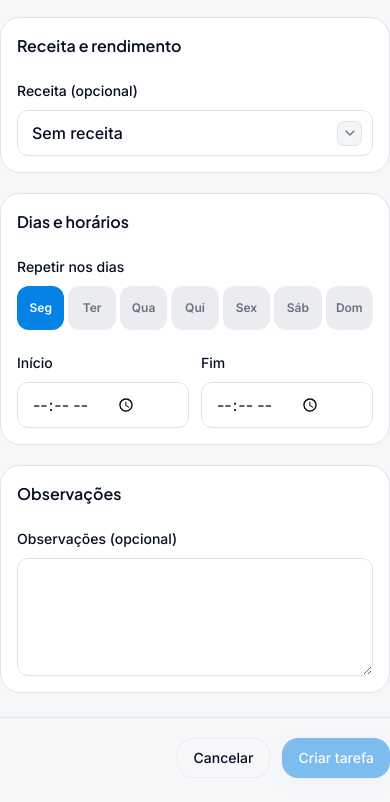
Test: Daily recurring schedule › prefills the selected day for new tasks but keeps all recurrence days when editing
Earlier steps of the test are not shown.
(page scrolled)
Click the button "Cancelar" at (223,758), box top-left (176, 738), bottom-right (270, 778)
(page scrolled)
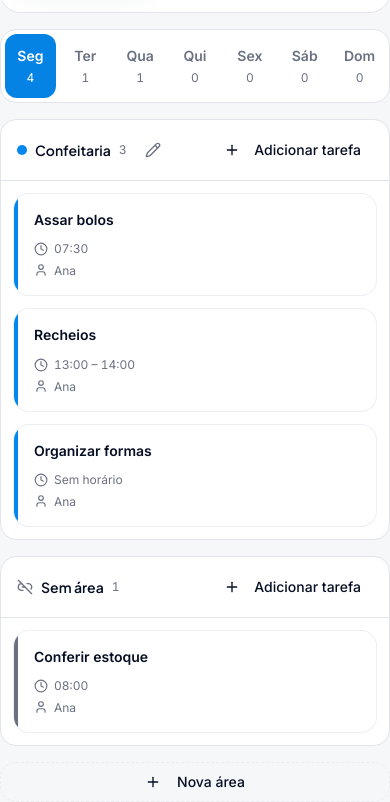
Result: the element named "Cronograma de Segunda" is shown
Click the button with aria-label "Ver Terça" at (85,66), box top-left (60, 34), bottom-right (111, 98)
(page scrolled)
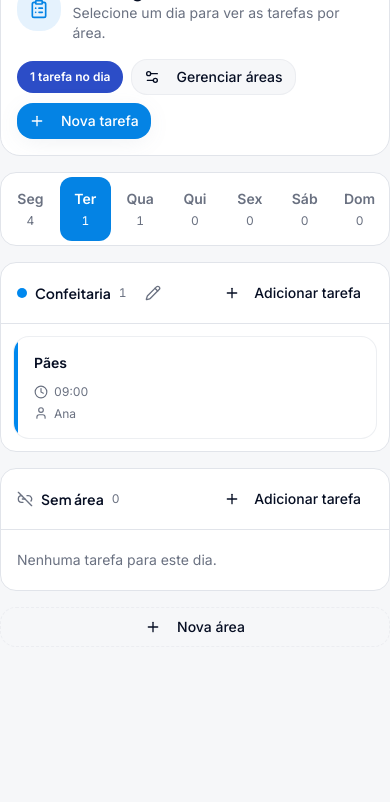
Click the button with aria-label "Adicionar tarefa em Confeitaria" at (293,293), box top-left (212, 275), bottom-right (373, 311)
(page scrolled)
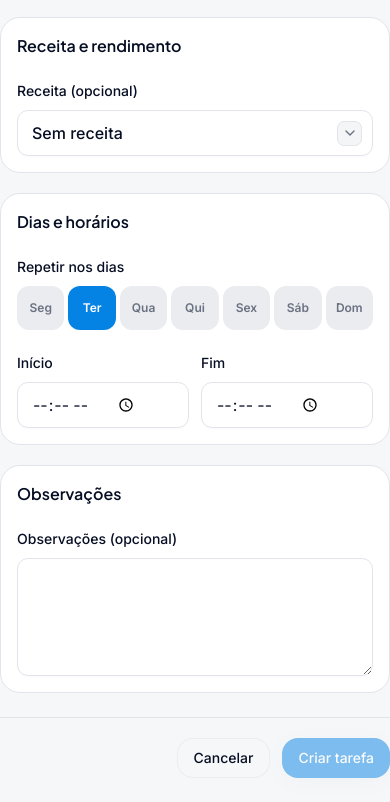
Result: the button titled "Terça" is pressed at top-left (68, 286), bottom-right (116, 330)
Click the button "Cancelar" at (223,758), box top-left (176, 738), bottom-right (270, 778)
(page scrolled)
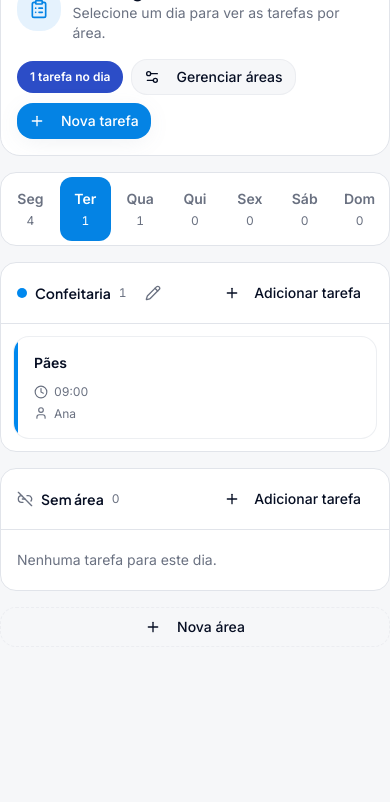
Result: the element named "Cronograma de Terça" is shown at top-left (0, 262), bottom-right (389, 647)
Click the button with aria-label "Ver Quarta" at (140,209), box top-left (115, 177), bottom-right (166, 241)
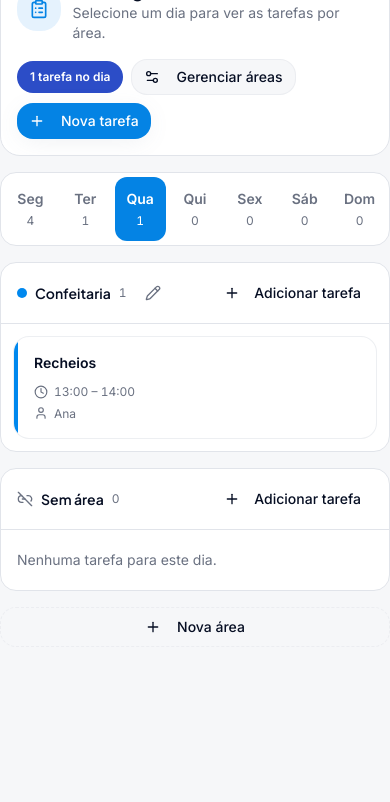
Click the button with aria-label "Editar tarefa Recheios" at (65,362), box top-left (13, 336), bottom-right (377, 439)
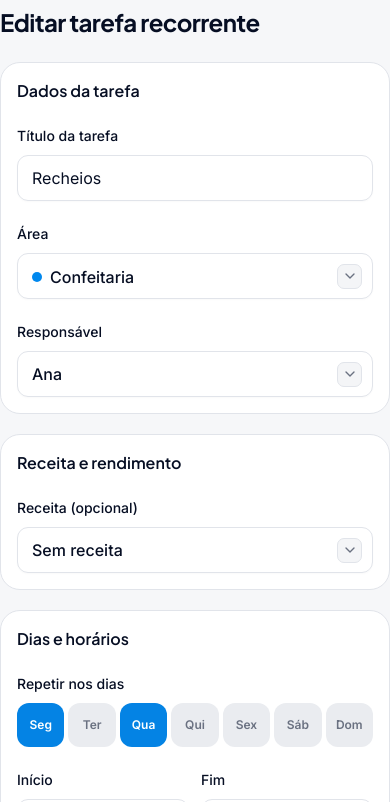
Result: the button titled "Segunda" is pressed at top-left (17, 703), bottom-right (64, 747)
Result: the button titled "Quarta" is pressed at top-left (120, 703), bottom-right (167, 747)
Result: the button titled "Terça" is not pressed at top-left (68, 703), bottom-right (116, 747)
